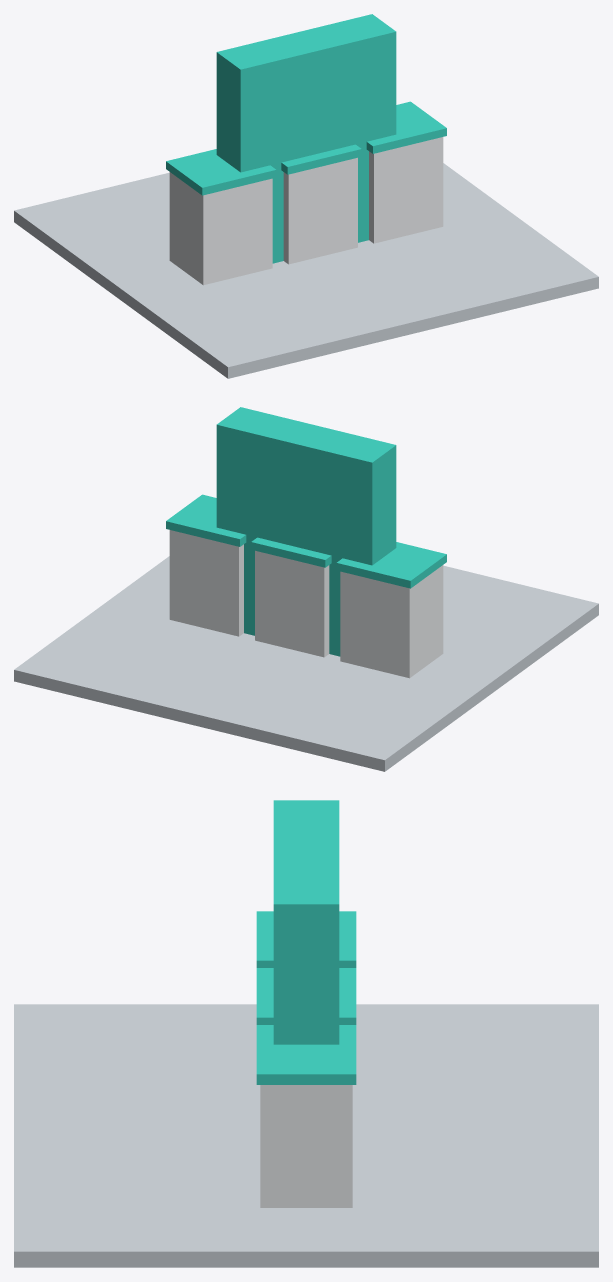
3 views of the same model, one above another, from view 1: azimuth 30°, elevation 25°; view 2: azimuth 150°, elevation 25°; view 3: azimuth 270°, elevation 25° (orthographic). The views are drawn at different scales.
Visible parts, largest first — view 1: Exhibition Booth Concept; view 2: Exhibition Booth Concept; view 3: Exhibition Booth Concept.
Boxes of the visible parts, left/top/right/bottom form: Exhibition Booth Concept: left=14, top=14, right=598, bottom=378; Exhibition Booth Concept: left=14, top=407, right=598, bottom=771; Exhibition Booth Concept: left=14, top=800, right=598, bottom=1267.
Bounding box in the file's own units: 4 × 2.2 × 4.
